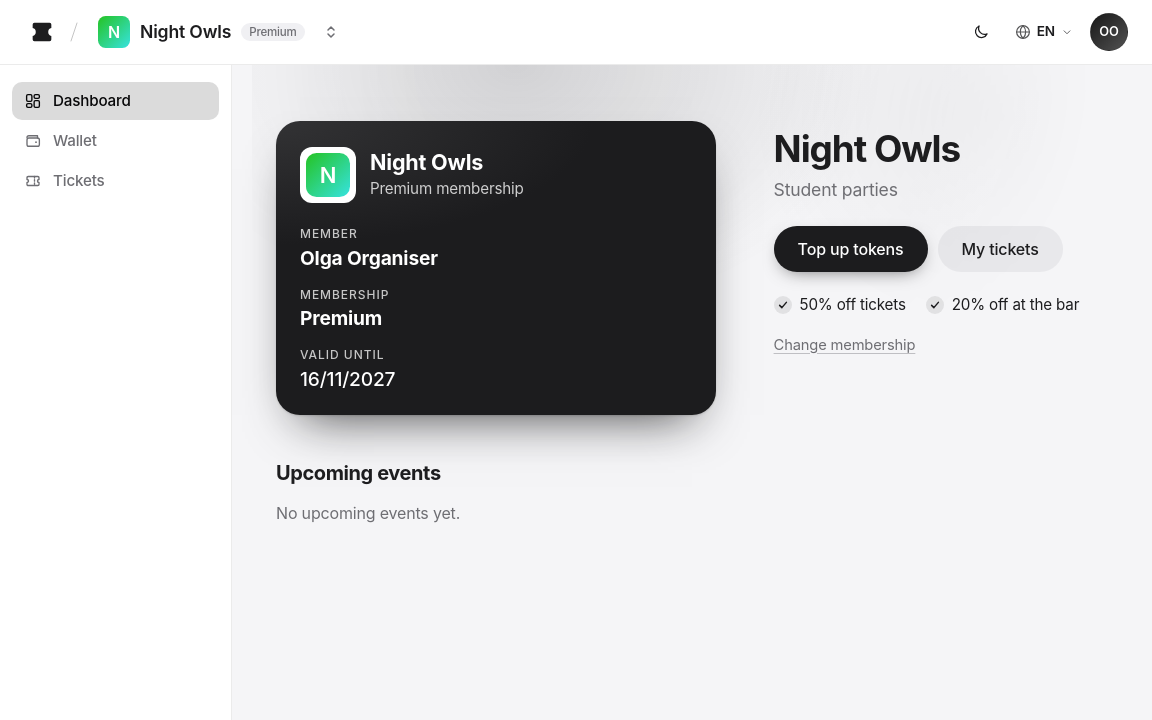
Test: one MyTickets account › signs out of MyTickets, everywhere at once
The width and height of the screenshot is (1152, 720).
Click the button with aria-label "Account menu" at x=1109, y=32, box [1090,13,1128,51]
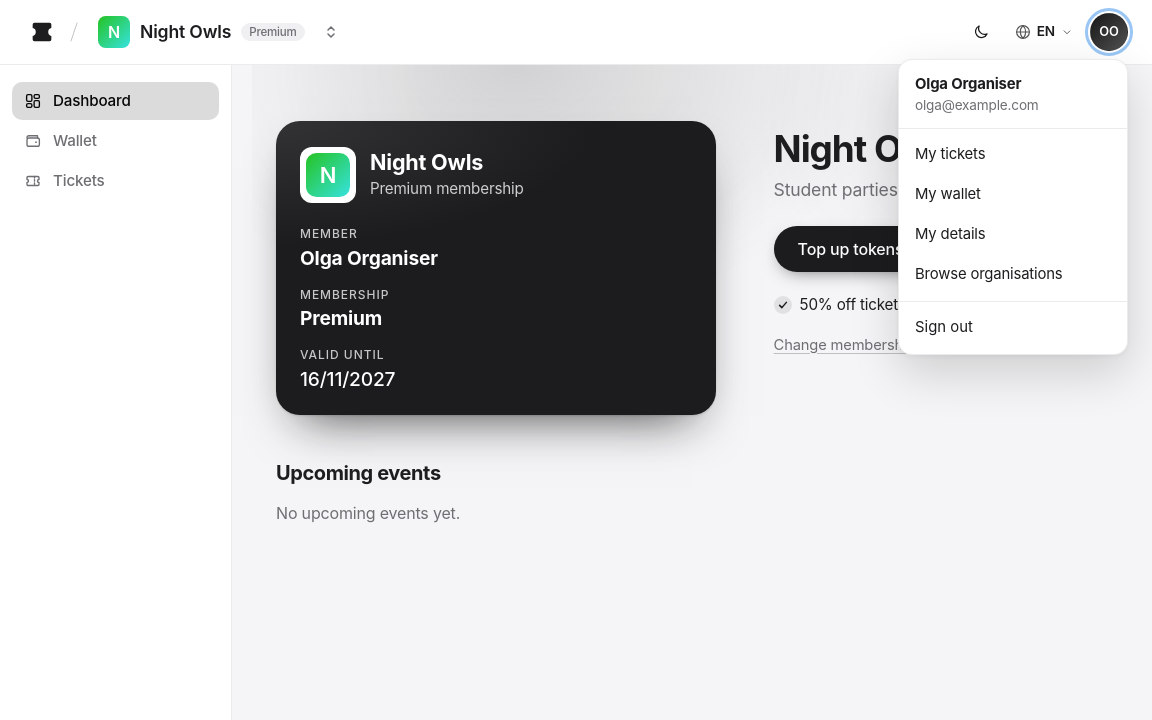
Click the button "Sign out" at x=1013, y=328, box [905,308,1121,348]
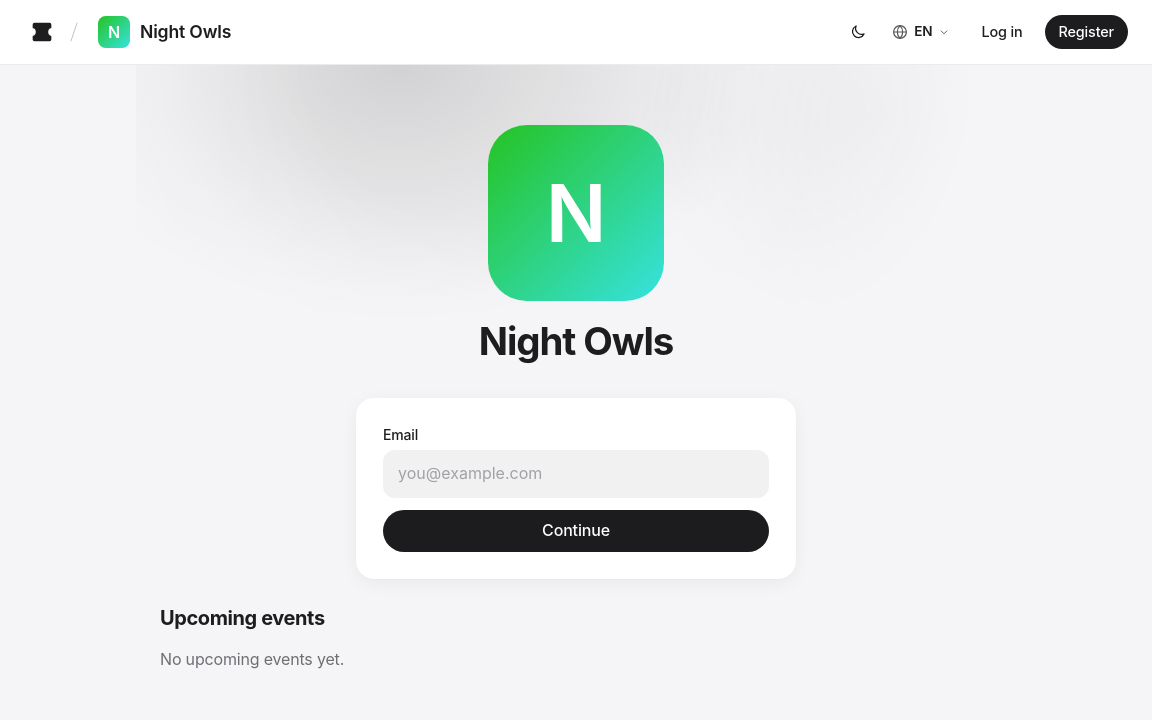
Check: the form named "Sign in at Night Owls" is shown, box [356,398,796,579]
